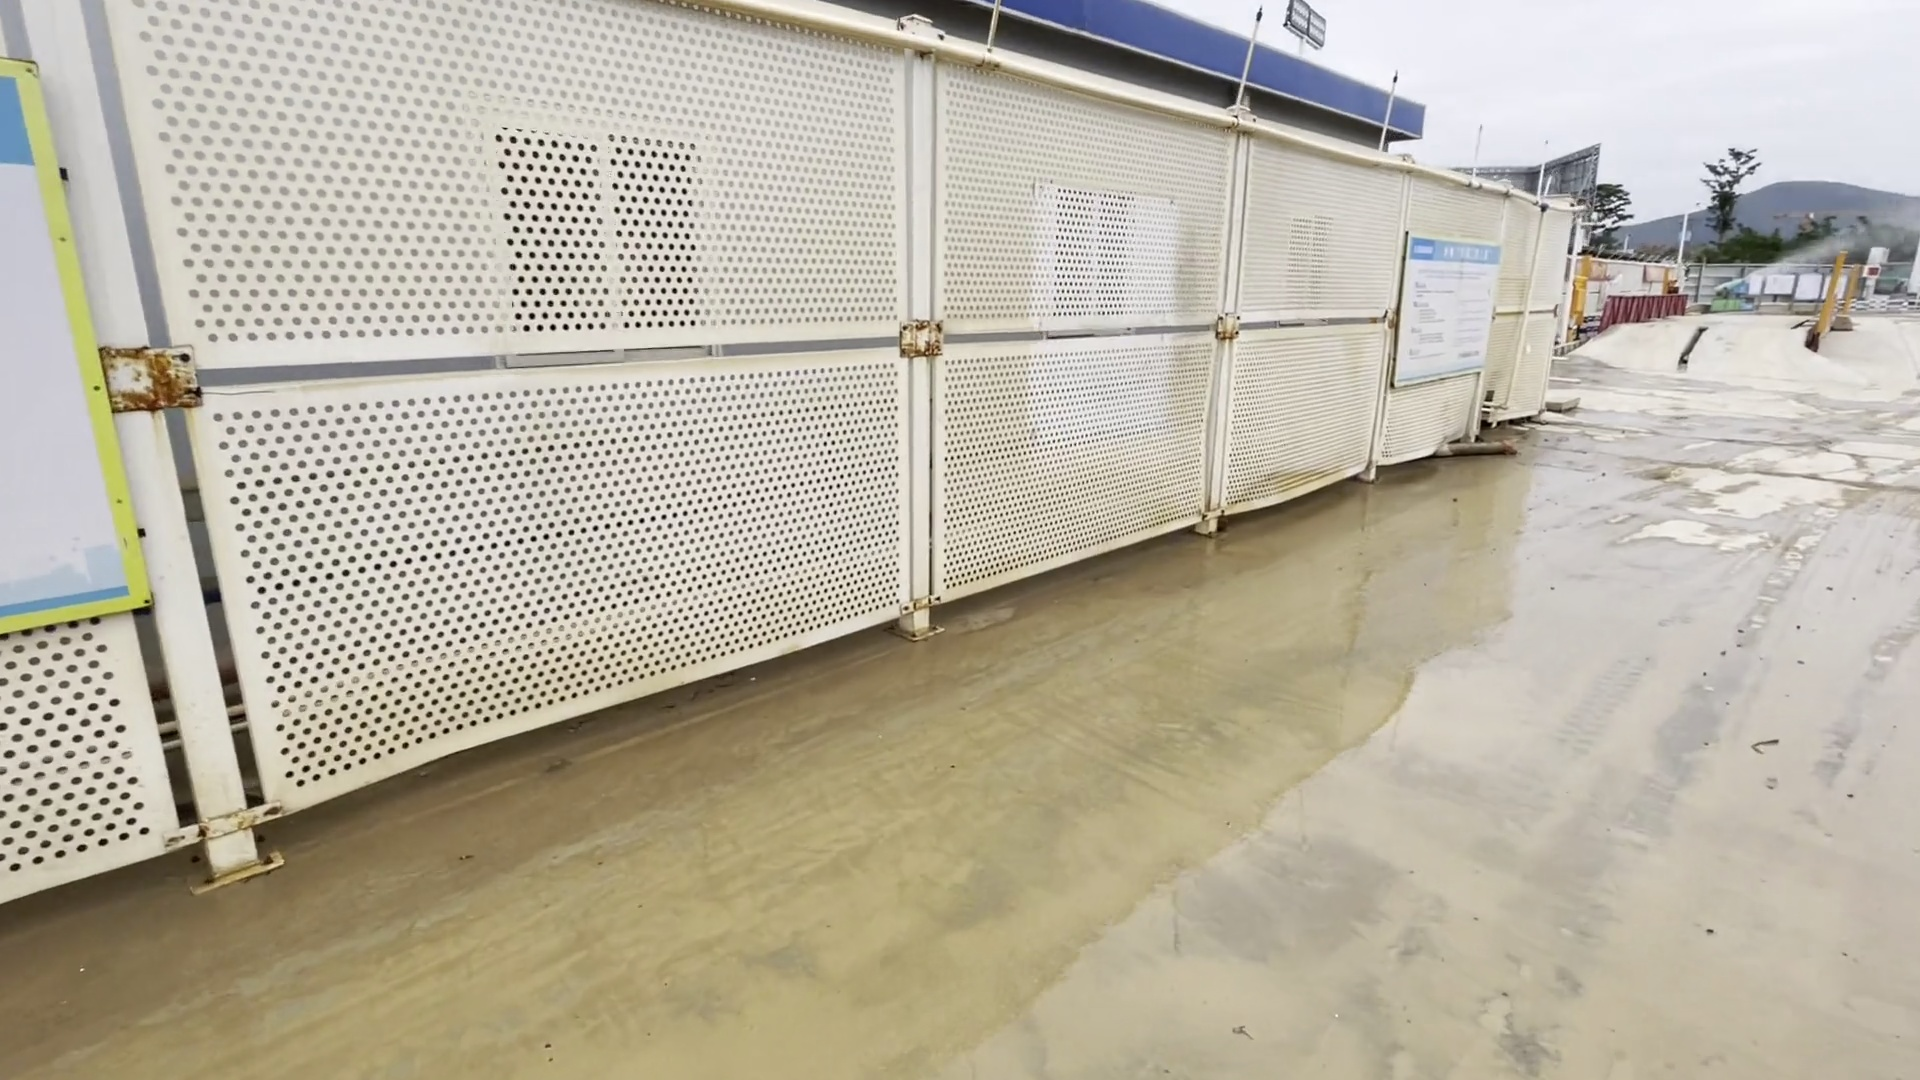slogan: (1391, 240, 1513, 396)
